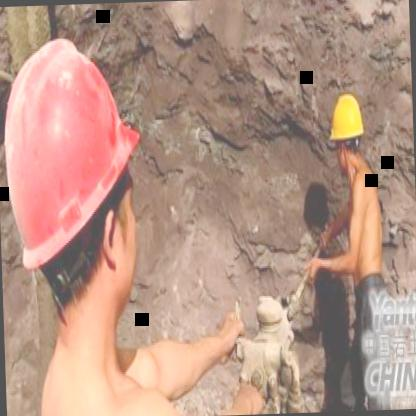helmet: (6, 20, 174, 393), (330, 82, 370, 183)
